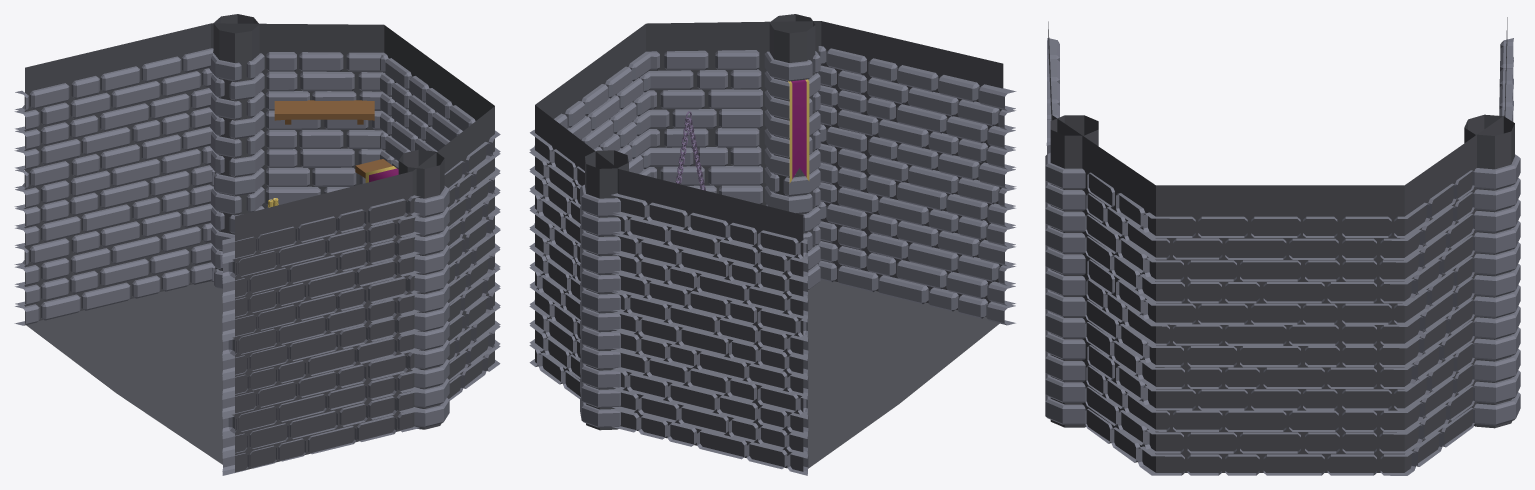
File: Walls.fbx
3 renders of one model, left to right at view 1: azimuth 30°, elevation 25°; view 2: azimuth 150°, elevation 25°; view 3: azimuth 270°, elevation 25°, orthographic. The views are drawn at different scales.
Parts seen in each view (by area): view 1: pCylinder3, pCube89, pCube88, pCube82, pCylinder34, pCylinder33, pCube87; view 2: pCylinder3, pCube82, pCube88, pCube89, pCylinder34, pCylinder33, Flag, Caudron; view 3: pCylinder3, pCube88, pCylinder34, pCylinder33, pCube89, pCube82.
Part boxes in pixels (x1,y1,x2,y2): pCylinder3: (25,23,494,472); pCube89: (14,48,213,325); pCube88: (266,52,500,400); pCube82: (222,195,420,475); pCylinder34: (209,14,264,288); pCylinder33: (398,149,449,429); pCube87: (274,100,374,124); pCylinder3: (535,21,1003,471); pCube82: (818,46,1016,325); pCube88: (529,50,762,398); pCube89: (611,193,808,475); pCylinder34: (580,150,628,430); pCylinder33: (764,14,820,289); Flag: (788,79,809,183); Caudron: (675,111,705,190); pCylinder3: (1048,17,1507,472); pCube88: (1085,170,1474,475); pCylinder34: (1464,114,1520,428); pCylinder33: (1045,115,1098,427); pCube89: (1499,38,1513,121); pCube82: (1046,38,1059,154).
Bounding box in the file's own units: 222 × 170 × 250.
